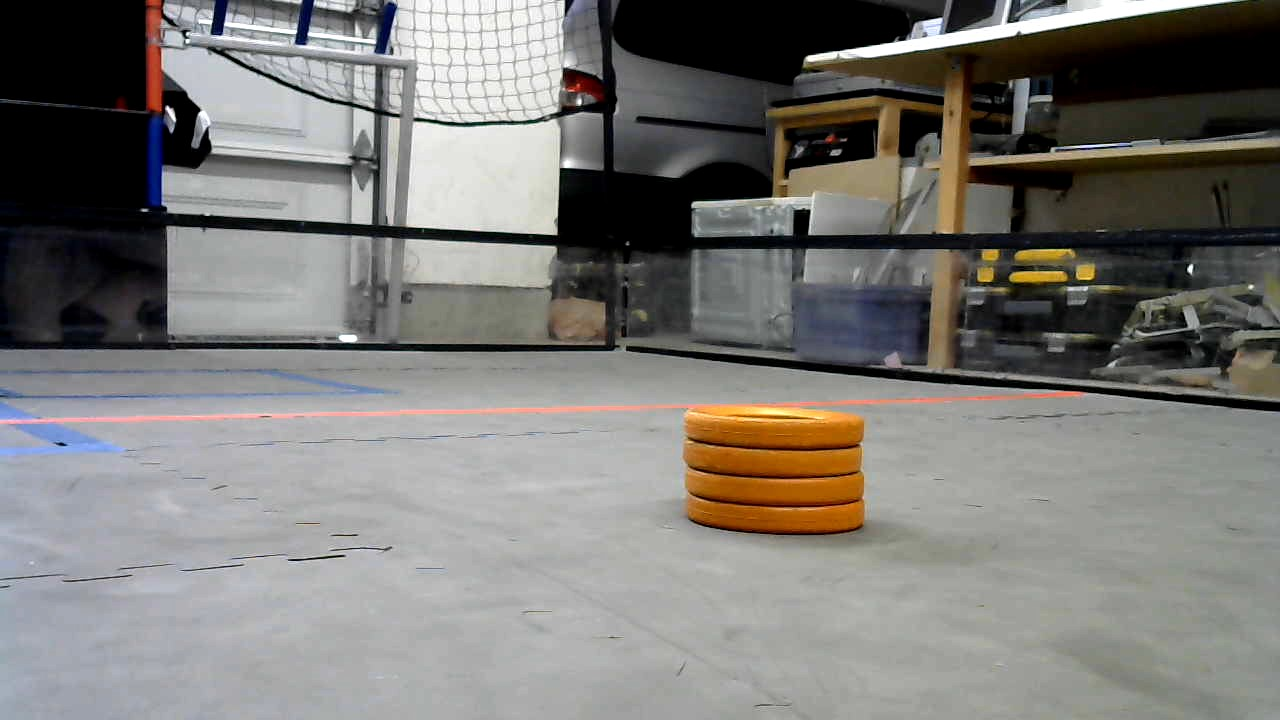FourStack: (683, 406, 868, 533)
